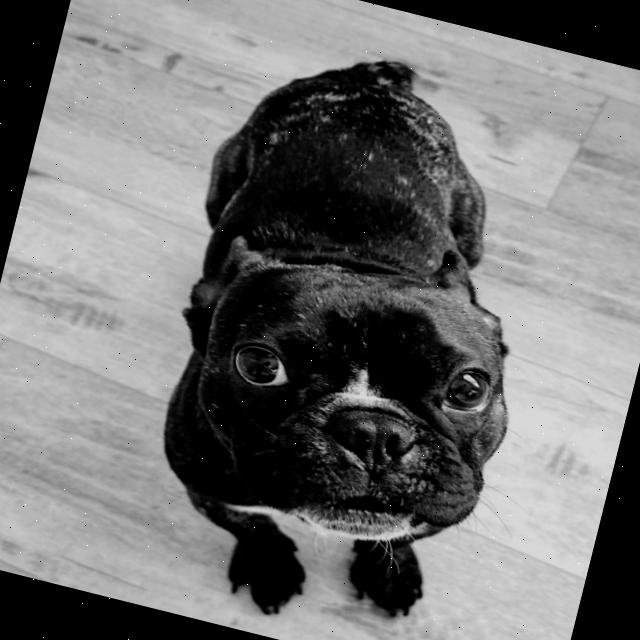french_bulldog_dog: (135, 178, 556, 582)
